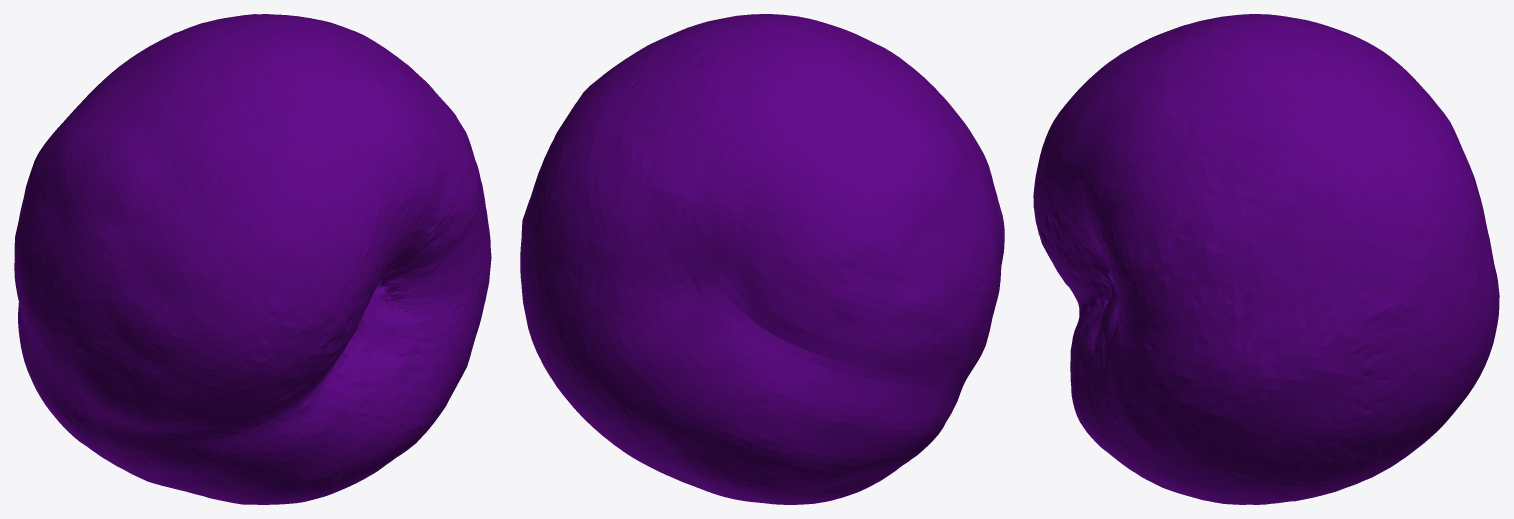
File: grape.obj
The picture shows the model from 3 angles, left to right: view 1: azimuth 30°, elevation 25°; view 2: azimuth 150°, elevation 25°; view 3: azimuth 270°, elevation 25°; orthographic projection. The views are drawn at different scales.
Parts seen in each view (by area): view 1: fruit; view 2: fruit; view 3: fruit.
Boxes of the visible parts, bbox=[...] form: fruit: bbox=[14, 14, 491, 504]; fruit: bbox=[520, 14, 1004, 504]; fruit: bbox=[1033, 14, 1499, 504].
Size of the model in its own units: 1.61 by 1.59 by 1.5.
